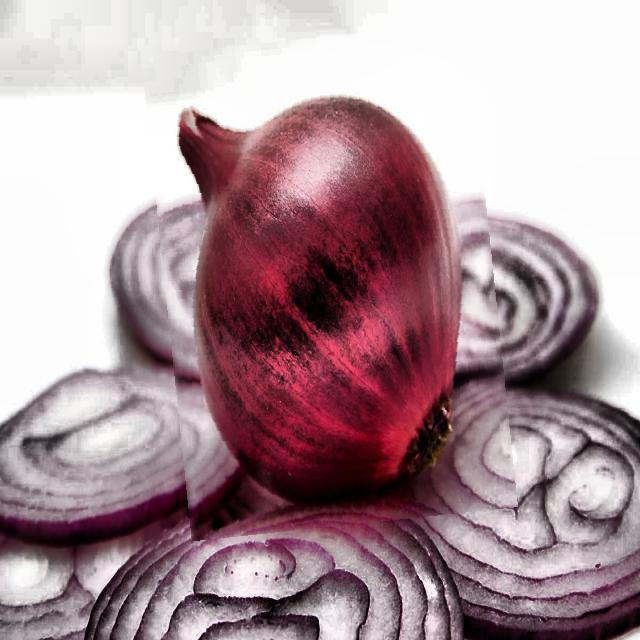onion: (153, 30, 506, 534)
